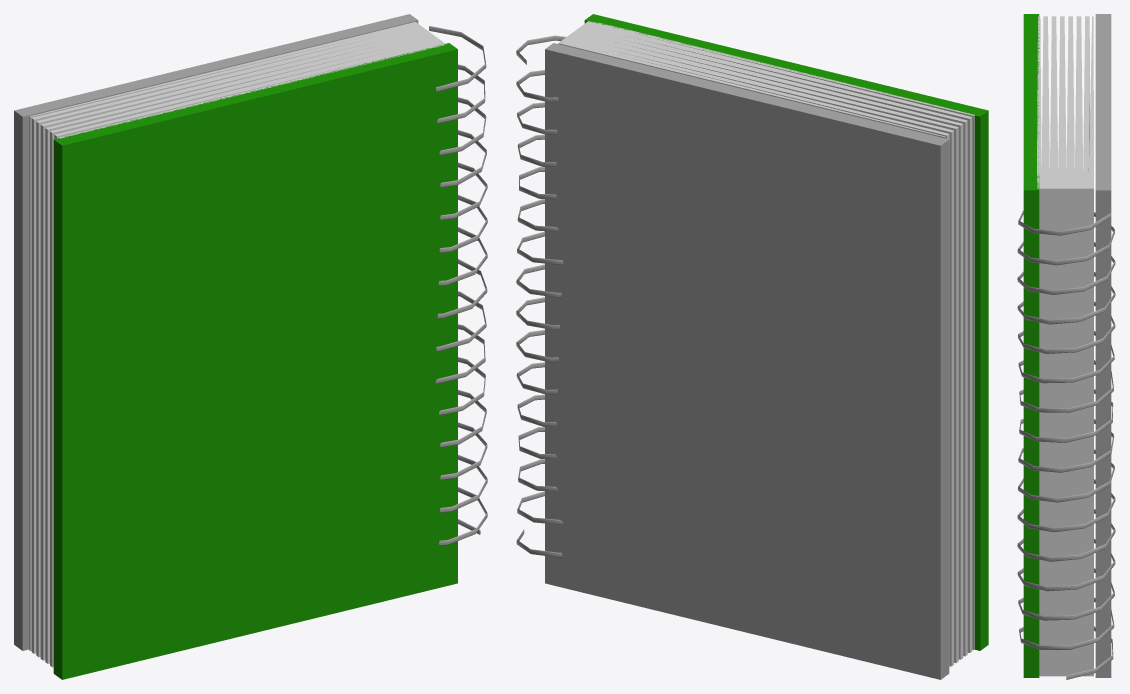
Rendered from notebook02_green.fbx.
3 views of the same model, side by side, from view 1: azimuth 30°, elevation 25°; view 2: azimuth 150°, elevation 25°; view 3: azimuth 270°, elevation 25° (orthographic). The views are drawn at different scales.
Parts seen in each view (by area): view 1: notebook02_green; view 2: notebook02_green; view 3: notebook02_green.
Boxes of the visible parts, bbox=[...] form: notebook02_green: bbox=[14, 14, 487, 679]; notebook02_green: bbox=[516, 14, 988, 679]; notebook02_green: bbox=[1017, 14, 1115, 679].
Bounding box in the file's own units: 1.17 × 1.35 × 0.2466.
